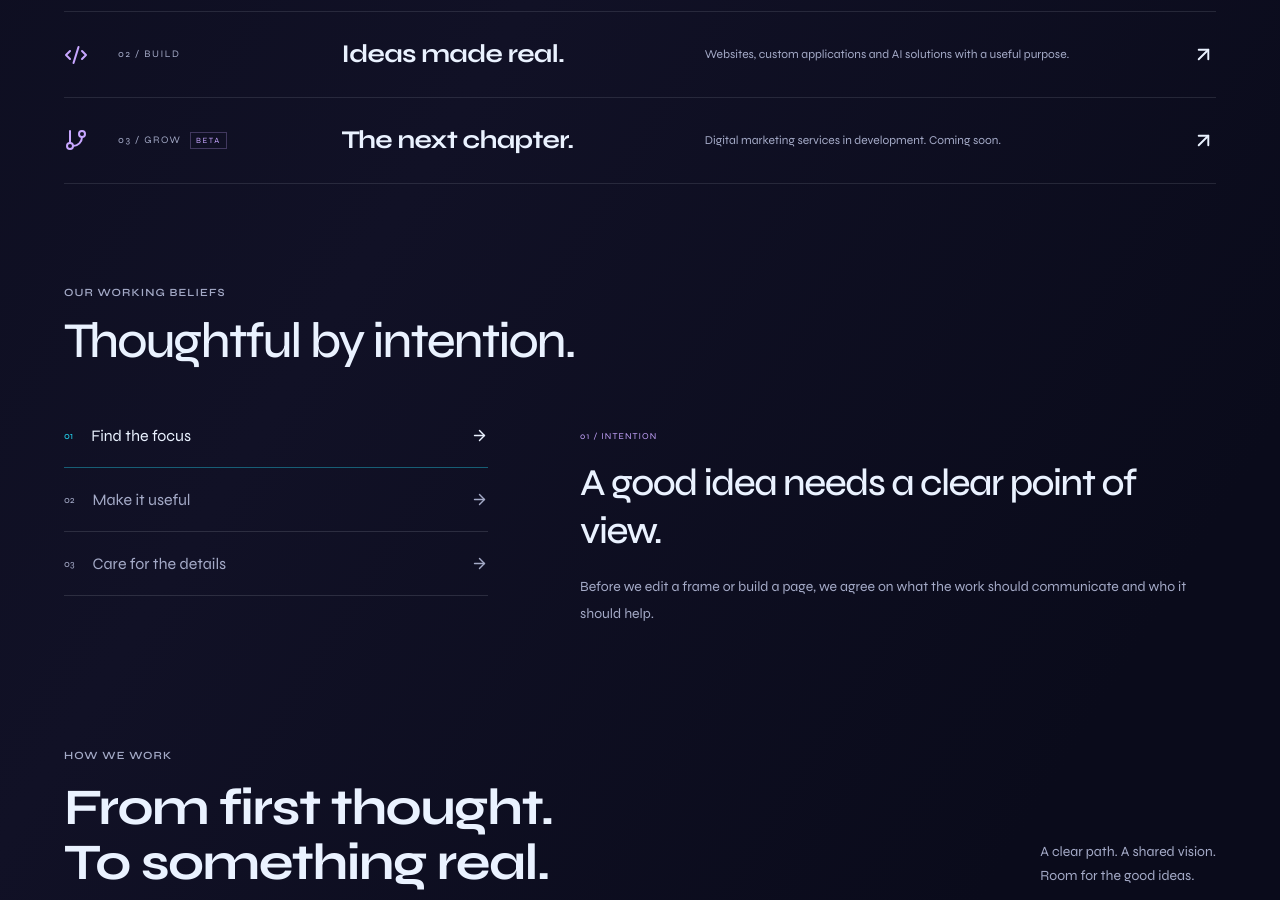
Test: supporting page clarity › explains the selected working belief without changing the approved studio identity
(page scrolled)
What coordinates should you click on to do the following:
click the button "02 Make it useful"
I would click on:
 (141, 500)
Its box is 64,468 -> 488,532.
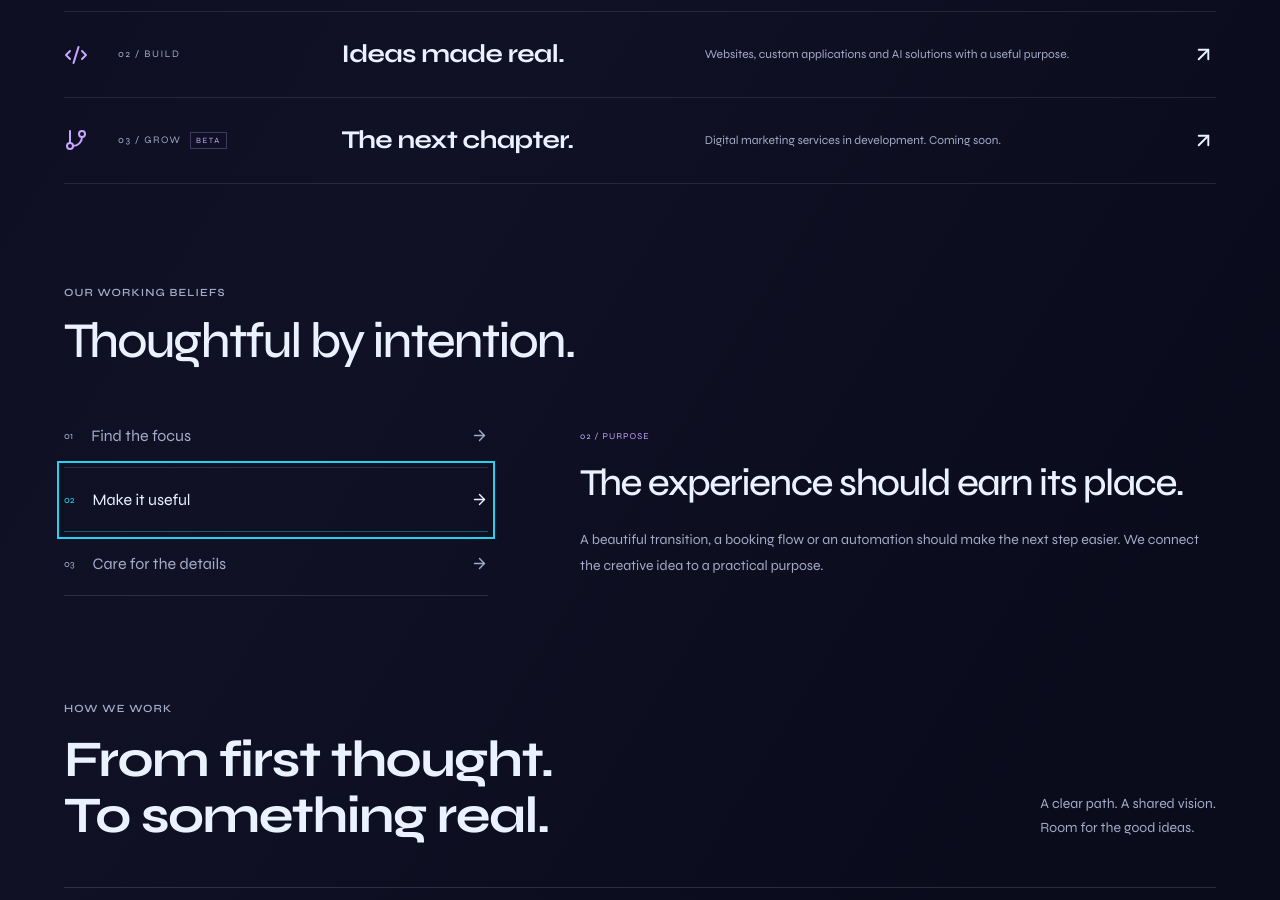
Expected: the link "03 / GROW" shows "Coming soon", 64,124 -> 1215,155
Now the heading "The experience should earn its place." is shown, box 580,459 -> 1216,507
Now the text "make the next step easier" is shown, box 580,531 -> 1199,574
What coordinates should you click on to do the following:
click the button "03 Care for the details"
I would click on:
 (159, 564)
Its box is 64,532 -> 488,596.
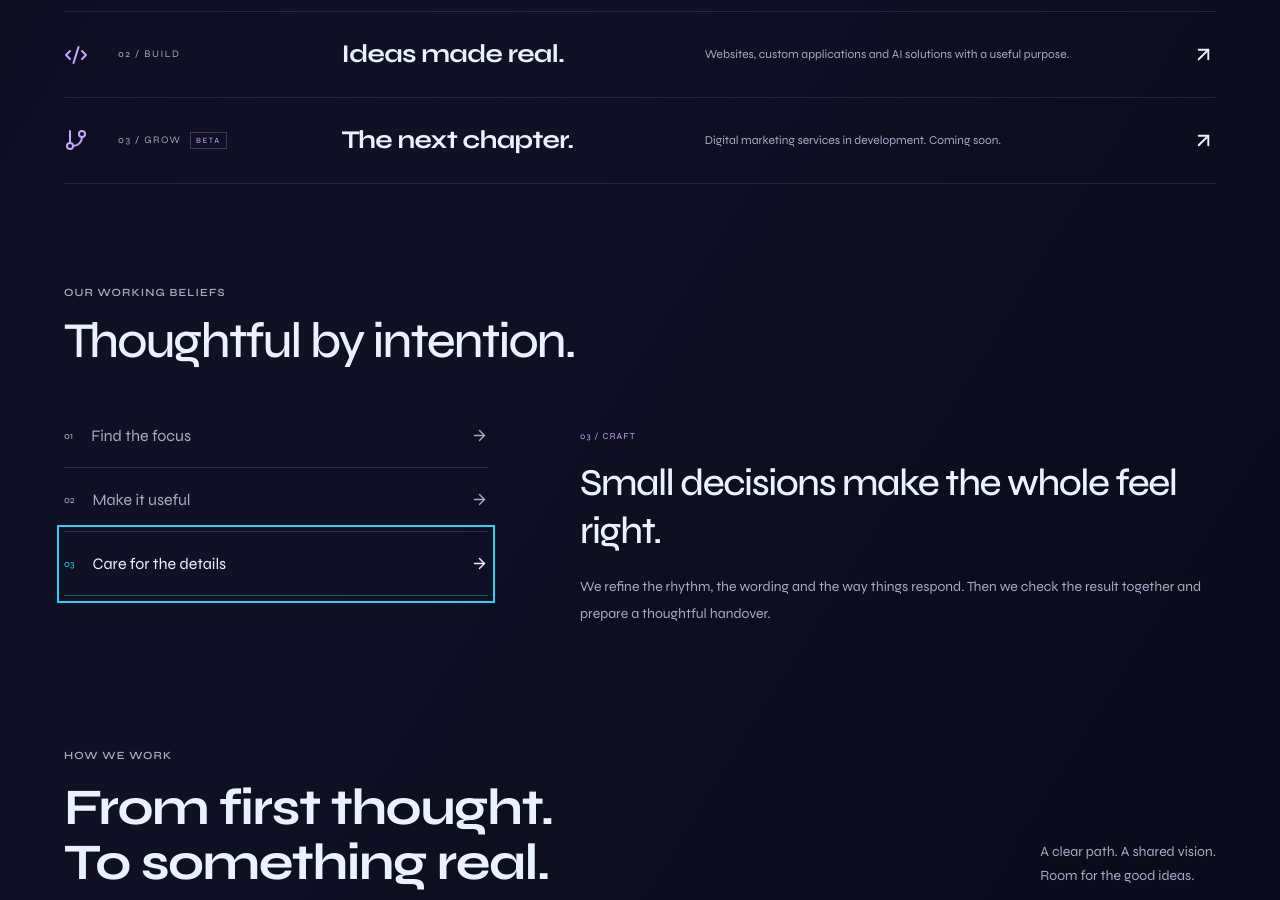
Now the heading "Small decisions make the whole feel right." is shown, box 580,459 -> 1216,554
